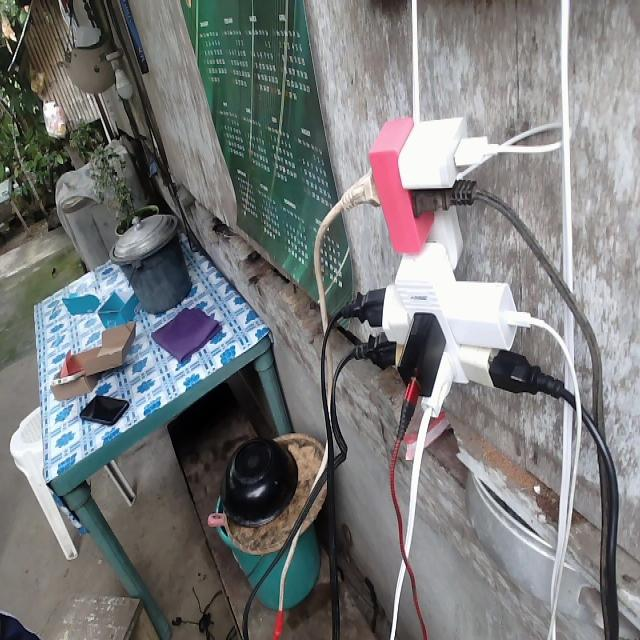-: (331, 115, 567, 436)
